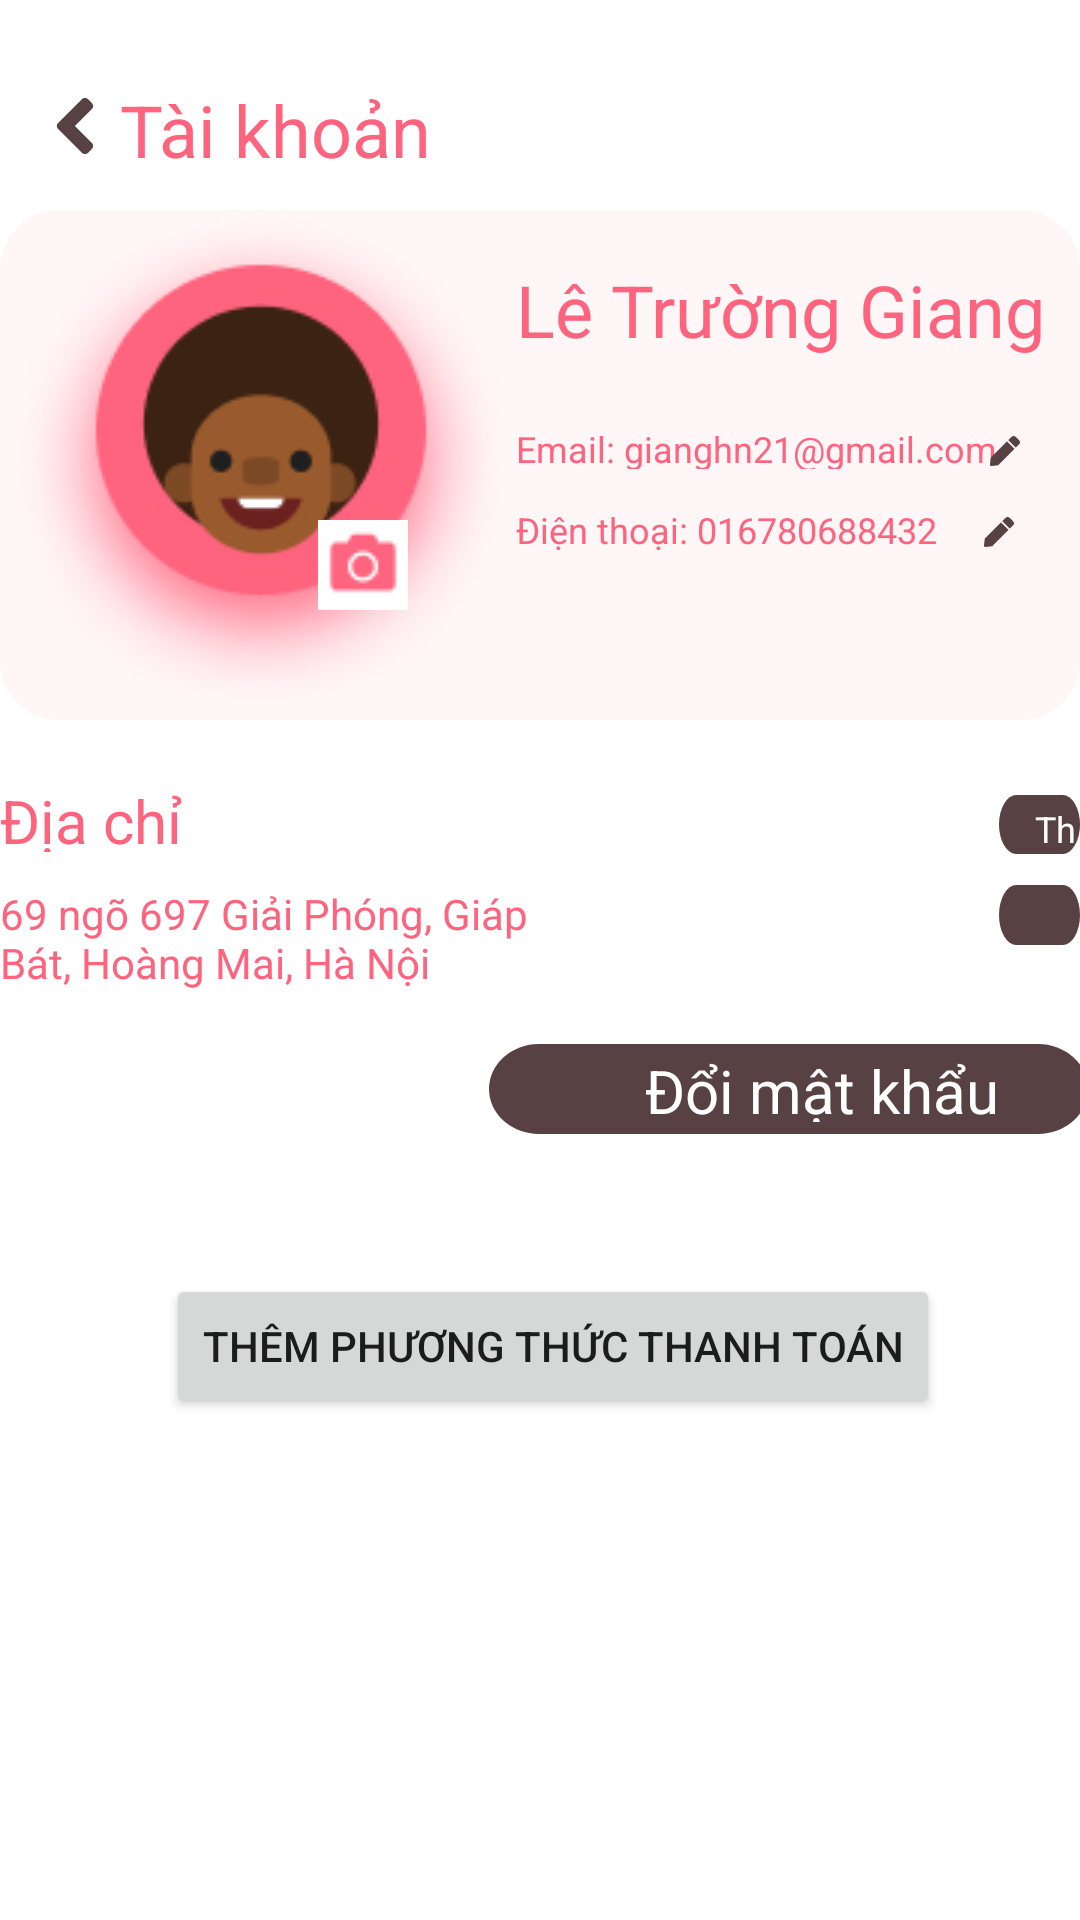

Where to tap for icons on this 1080*1920 app screen, as [x,y]:
mini camera: [363,565]
pencil: [1005,451], [999,532]
